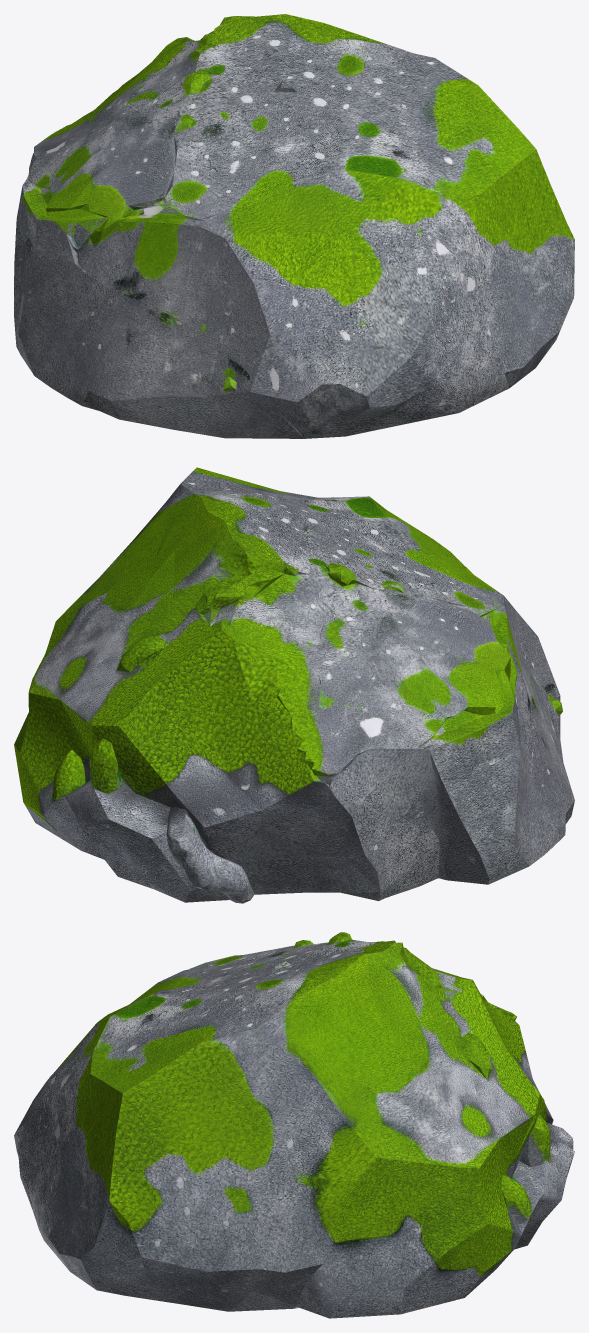
3 renders of one model, top to bottom at view 1: azimuth 30°, elevation 25°; view 2: azimuth 150°, elevation 25°; view 3: azimuth 270°, elevation 25°, orthographic. The views are drawn at different scales.
Bounding box in the file's own units: 1.75 × 1.06 × 1.9.
Materials: 1 (1 with a texture image).
